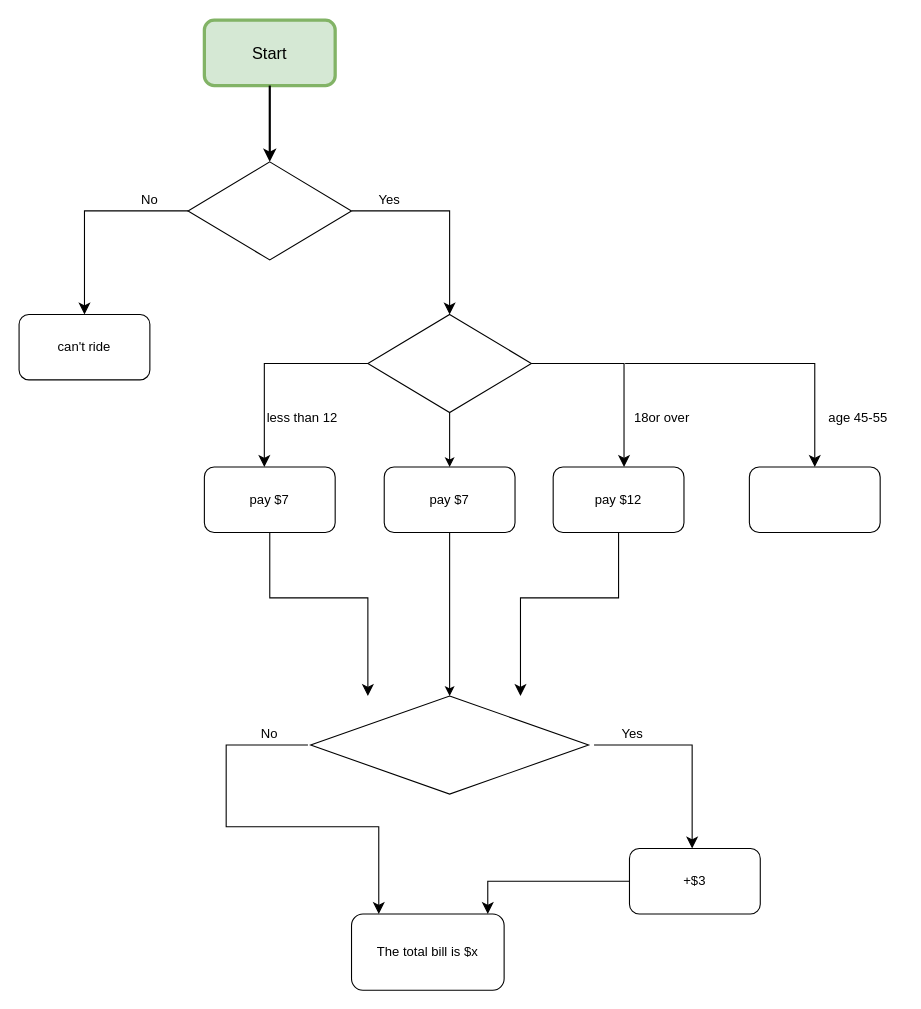
Image size: 921x1009. Some labels were removed from this diagram. The centre of each missing label's shape, as x and y in pixels:
age ?: (x=449, y=363)
free ride: (x=814, y=499)
Height >= 120 ?: (x=269, y=210)
want photos ?: (x=449, y=744)
